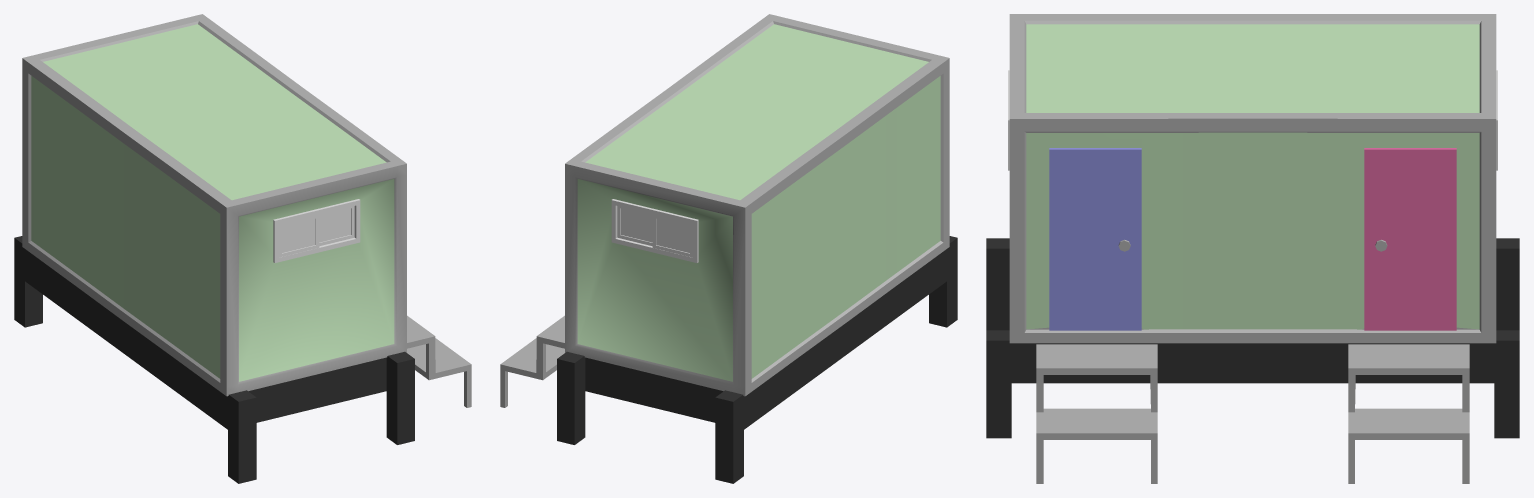
The model's file is restroom.fbx.
The picture shows the model from 3 angles, left to right: view 1: azimuth 30°, elevation 25°; view 2: azimuth 150°, elevation 25°; view 3: azimuth 270°, elevation 25°; orthographic projection. The views are drawn at different scales.
Parts seen in each view (by area): view 1: Cube, Cube.005, Cube.006, Cube.001, Cube.008, Cube.007, Cube.003; view 2: Cube, Cube.005, Cube.006, Cube.001, Cube.008, Cube.007, Cube.003; view 3: Cube, Cube.004, Cube.005, Cube.006.
Boxes of the visible parts, box(x1,y1,x2,y2) form: Cube: box(22, 14, 406, 396); Cube.005: box(14, 236, 414, 483); Cube.006: box(407, 315, 471, 407); Cube.001: box(273, 199, 360, 262); Cube.008: box(282, 218, 315, 252); Cube.007: box(319, 208, 351, 242); Cube.003: box(278, 214, 319, 257); Cube: box(565, 14, 949, 396); Cube.005: box(557, 236, 957, 483); Cube.006: box(500, 315, 564, 407); Cube.001: box(611, 199, 698, 262); Cube.008: box(656, 218, 689, 252); Cube.007: box(620, 208, 652, 242); Cube.003: box(652, 214, 693, 257); Cube: box(1009, 14, 1496, 343); Cube.004: box(1049, 148, 1456, 330); Cube.005: box(986, 238, 1519, 438); Cube.006: box(1036, 344, 1469, 483).
Size of the model in its own units: 291 by 293 by 441.
